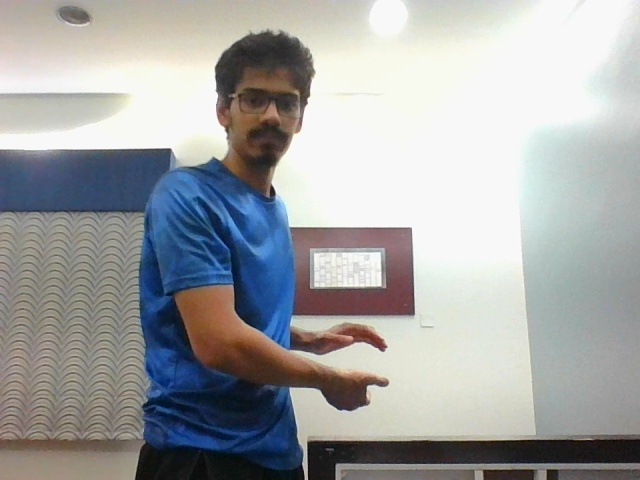charge: (317, 316, 393, 414)
